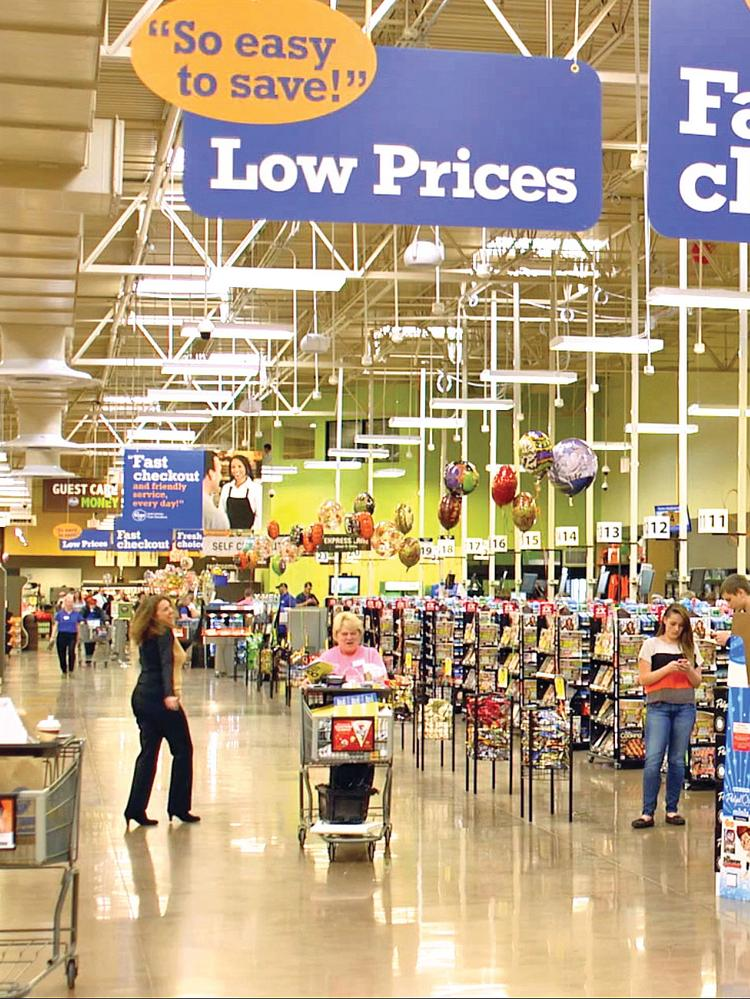Emotion_Happy: (325, 612, 372, 656), (147, 592, 184, 629), (225, 453, 250, 486)
Emotion_Neutral: (655, 600, 694, 644)
